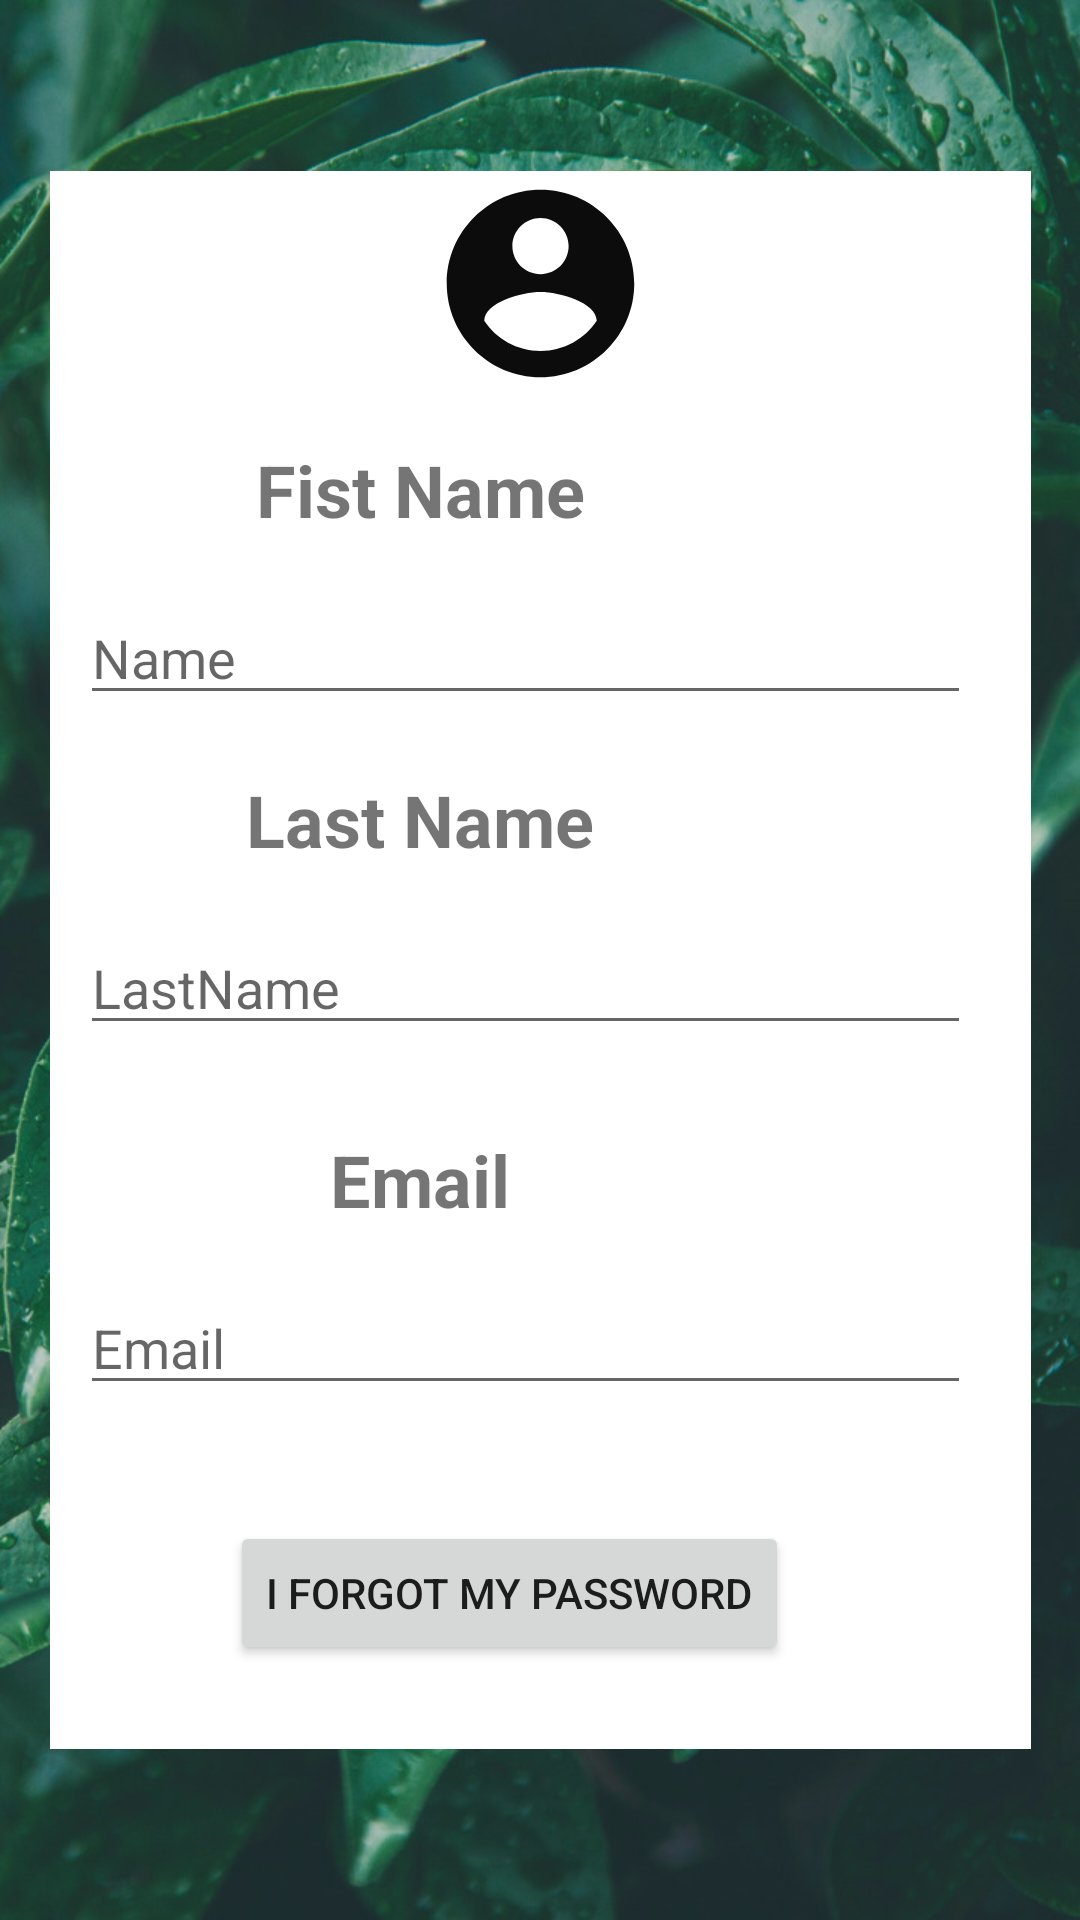

Icon click points for this 1080×1920 phone screenshot, format [x,y]:
account: [540,283]
